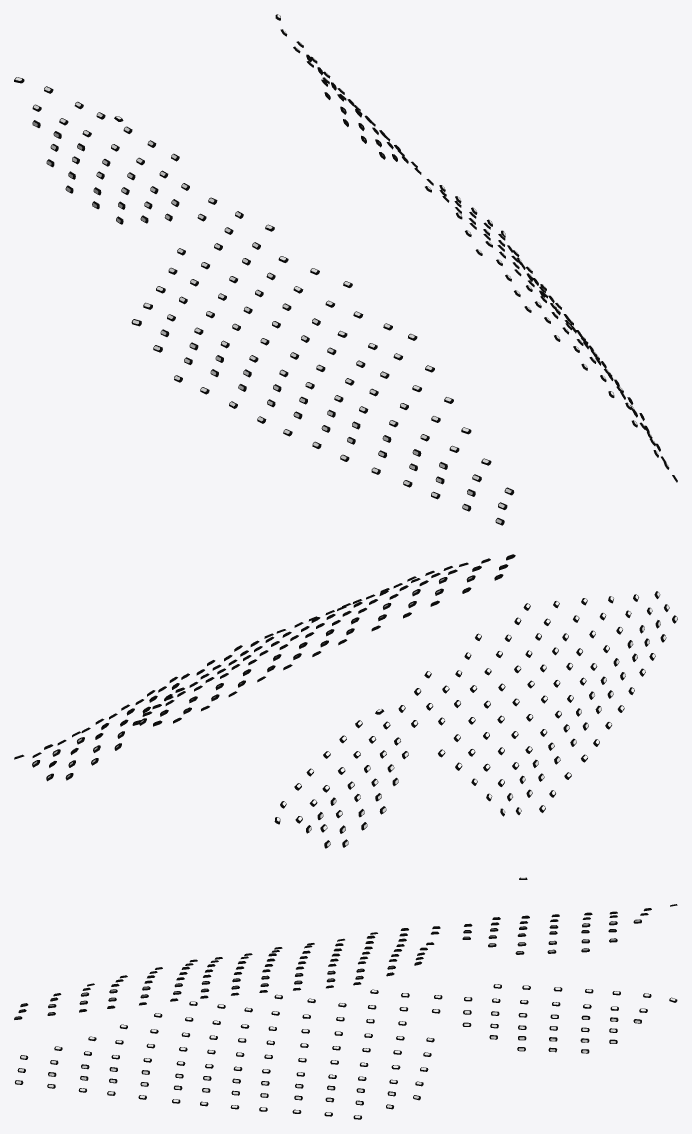
File: spaceShipWindows.glb
The picture shows the model from 3 angles, top to bottom: view 1: azimuth 30°, elevation 25°; view 2: azimuth 150°, elevation 25°; view 3: azimuth 270°, elevation 25°; orthographic projection. The views are drawn at different scales.
Bounding box in the file's own units: 149 × 64.74 × 307.
1 material, 1 textured.
